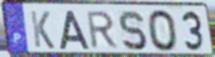3: (181, 10, 204, 52)
A: (59, 9, 92, 51)
K: (28, 9, 56, 50)
O: (146, 9, 180, 53)
R: (86, 10, 120, 51)
S: (117, 9, 148, 52)
